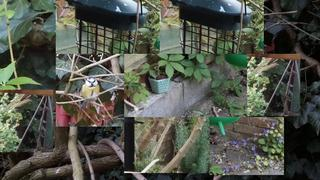blue tit: (79, 76, 100, 109)
